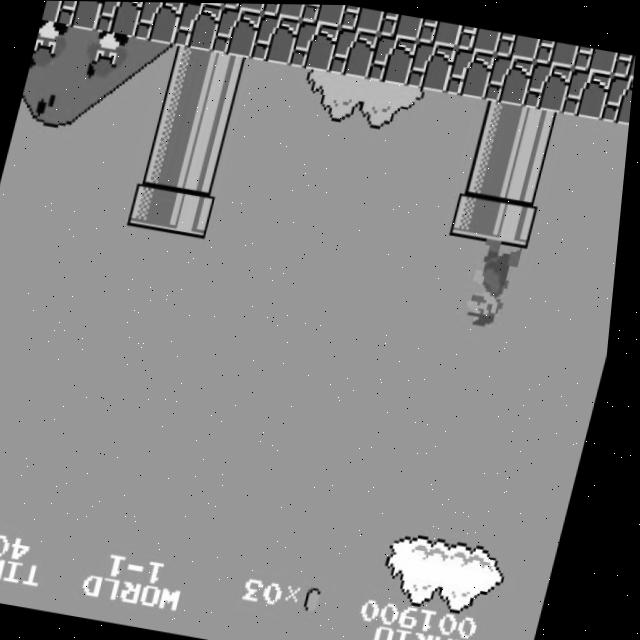0- big_mario: (466, 237, 531, 337)
14- pipe: (502, 150, 554, 203), (513, 105, 565, 158), (463, 143, 515, 196), (474, 98, 526, 151), (201, 51, 253, 104), (151, 89, 203, 142), (162, 44, 214, 97), (190, 96, 242, 148), (141, 135, 192, 187), (180, 142, 231, 193)
15- pipe_head: (169, 186, 221, 239), (492, 195, 544, 247), (453, 189, 505, 241), (130, 180, 182, 232)
17- undestructible_block: (445, 46, 497, 99), (406, 39, 458, 92), (289, 19, 341, 72), (250, 12, 302, 65), (211, 6, 263, 59), (484, 53, 536, 105), (367, 33, 419, 85), (328, 26, 380, 78), (563, 66, 614, 119), (524, 60, 575, 112), (172, 2, 224, 52), (133, 2, 184, 45), (94, 1, 145, 38), (601, 73, 635, 125), (55, 1, 105, 31), (573, 44, 620, 74), (456, 24, 503, 54), (417, 17, 464, 47), (534, 38, 581, 67), (495, 31, 542, 60), (378, 11, 425, 40), (339, 4, 386, 33), (300, 4, 346, 27), (261, 3, 306, 20), (612, 51, 637, 80), (41, 1, 65, 25), (222, 3, 267, 13)
8- goomba: (81, 28, 135, 84), (30, 19, 75, 74)
